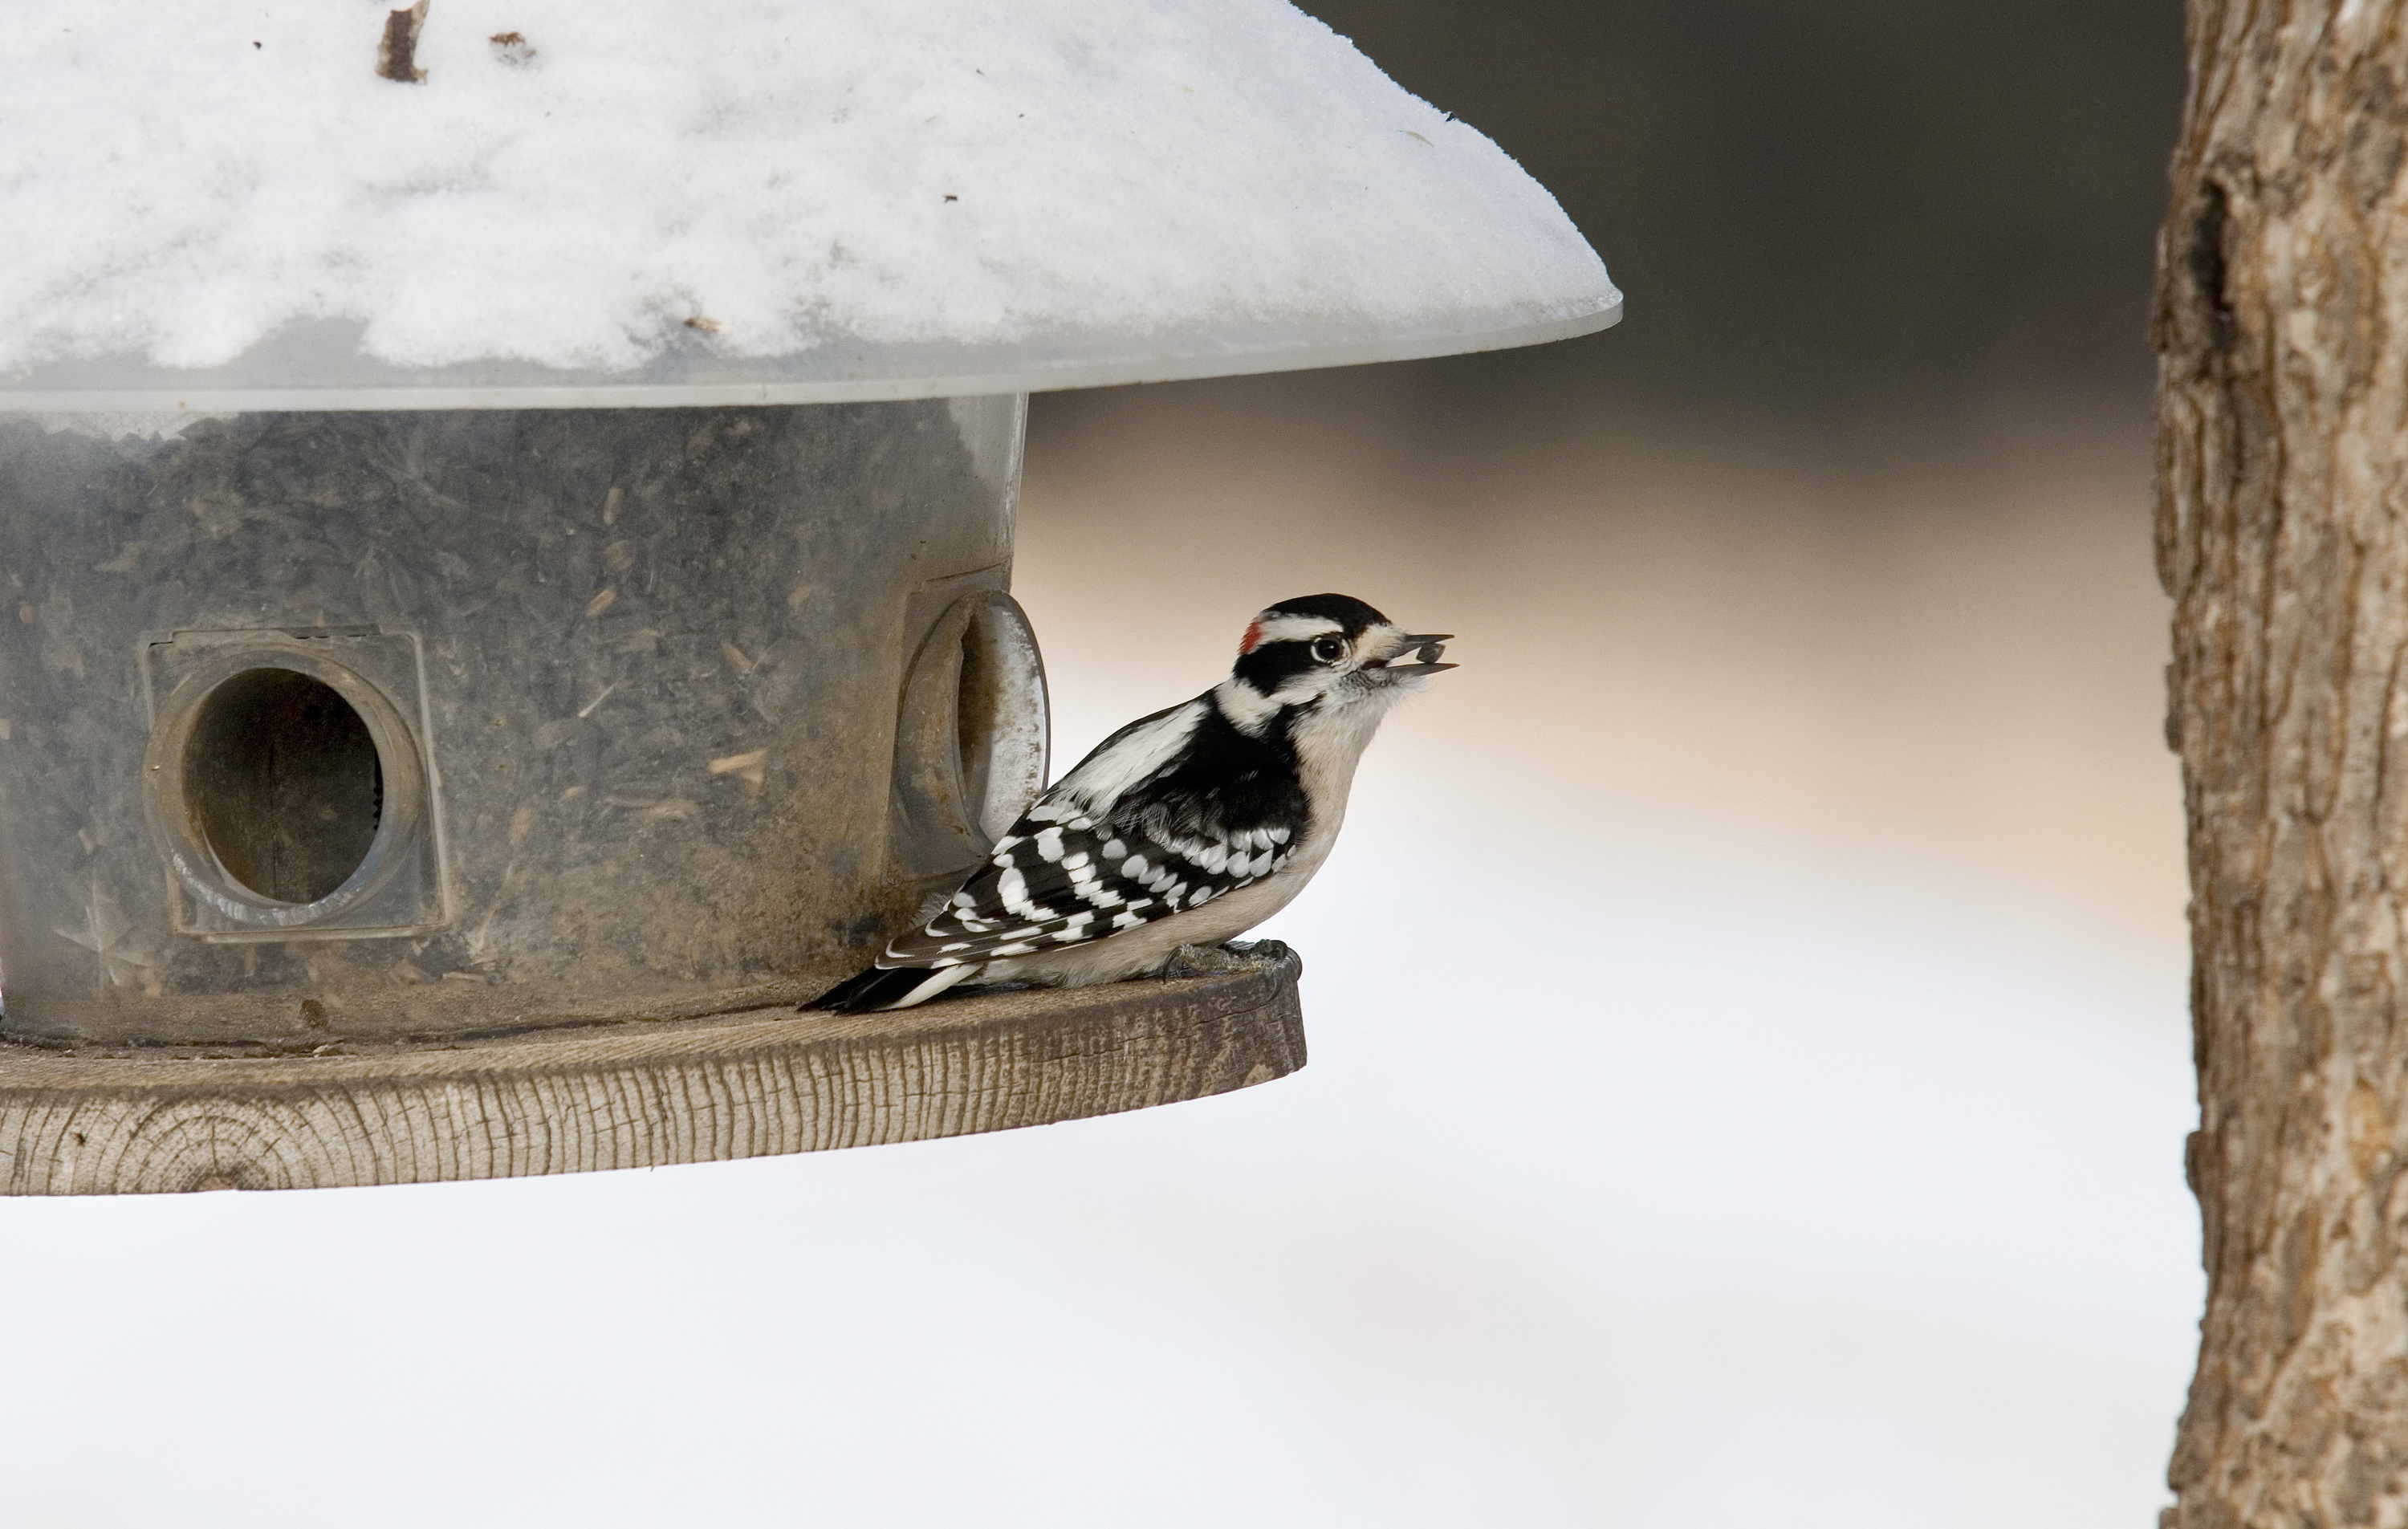bird: (749, 516, 1494, 1057)
